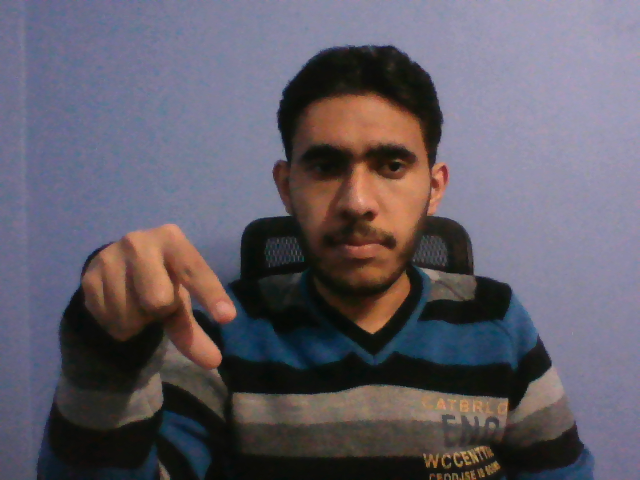Q: (66, 219, 236, 379)
